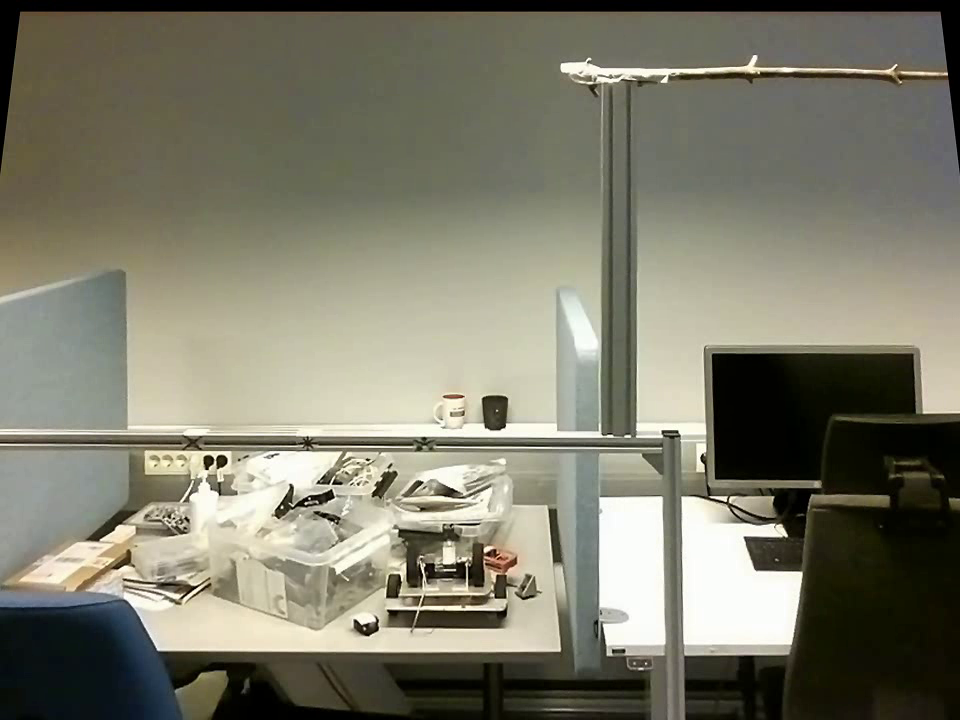aluminum_frame: (1, 428, 664, 456), (596, 80, 639, 437), (655, 425, 693, 717)
branch: (668, 47, 940, 92)
